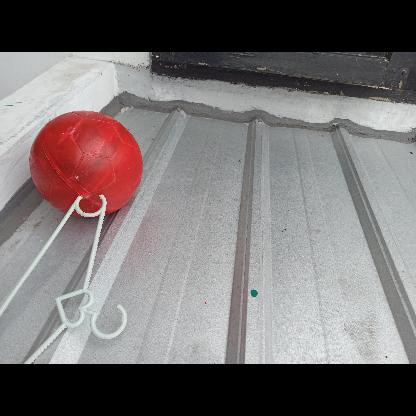red_ball: (30, 104, 144, 218)
